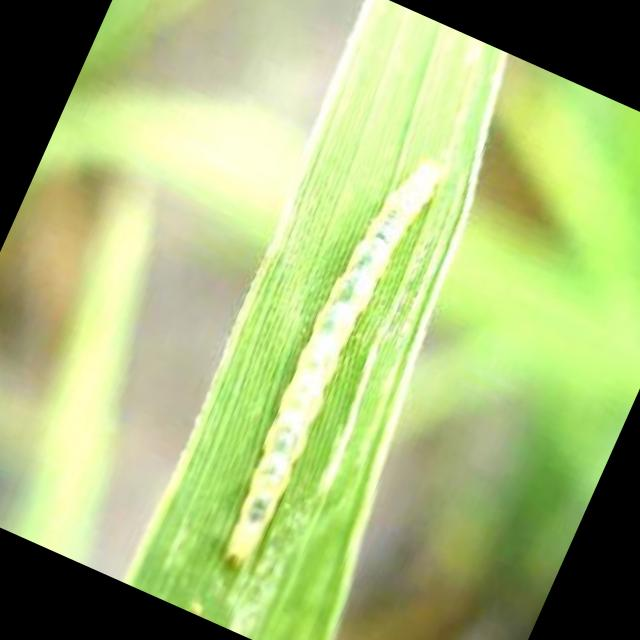leaf-folder: (172, 92, 494, 618)
